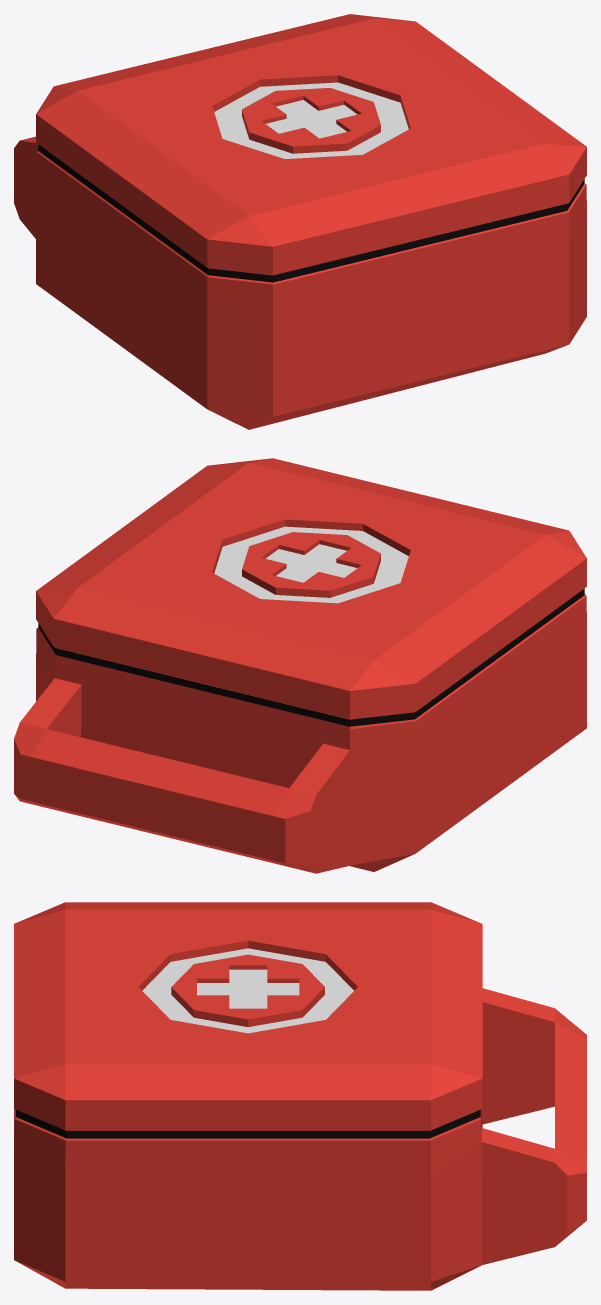
File: MedKit.fbx
The picture shows the model from 3 angles, top to bottom: view 1: azimuth 30°, elevation 25°; view 2: azimuth 150°, elevation 25°; view 3: azimuth 270°, elevation 25°; orthographic projection. The views are drawn at different scales.
Visible parts, largest first — view 1: MedKit; view 2: MedKit; view 3: MedKit.
Boxes of the visible parts, x1,y1,x2,y2 form: MedKit: (14,14,586,429); MedKit: (14,458,586,873); MedKit: (14,902,586,1290).
Bounding box in the file's own units: 25.61 × 13.79 × 31.32.
